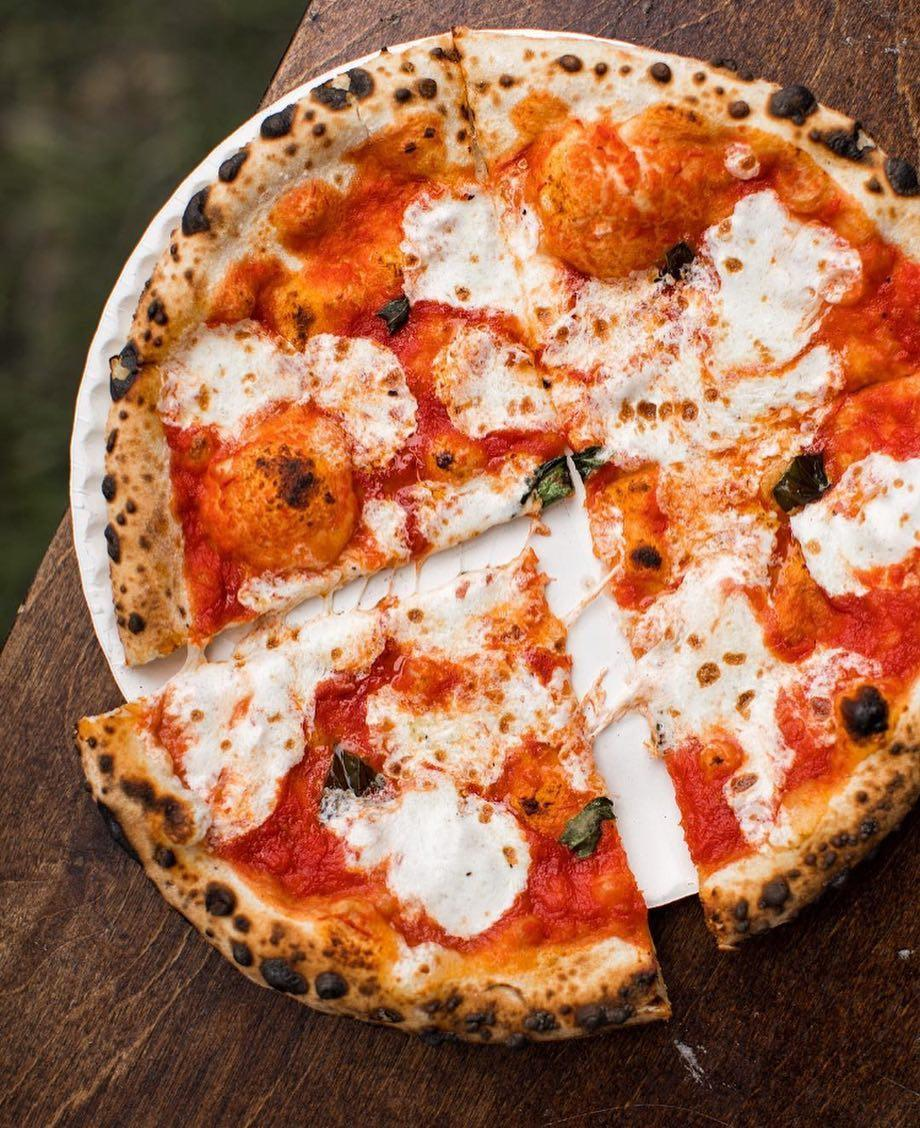Basil: (524, 448, 609, 504), (567, 798, 615, 858)
Cheese: (365, 784, 533, 923), (553, 292, 697, 437), (698, 207, 841, 352), (396, 197, 552, 327), (790, 454, 920, 579), (295, 334, 418, 461), (168, 690, 294, 799), (439, 325, 552, 438), (173, 325, 294, 428), (661, 615, 772, 722)
Pizza: (77, 30, 920, 1053)
